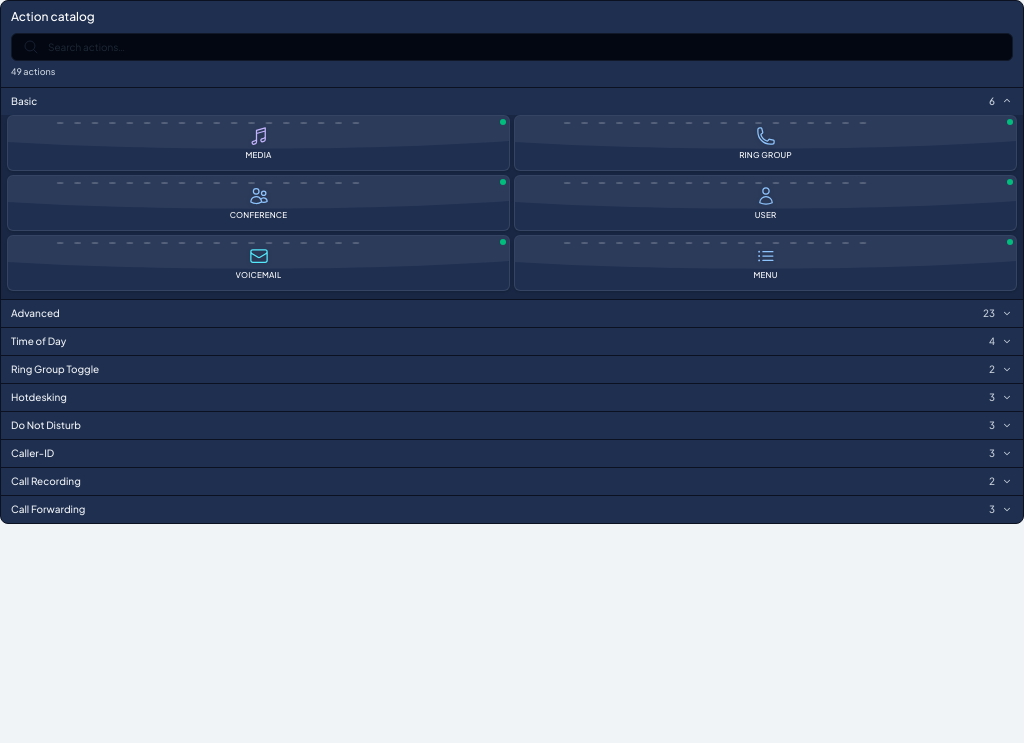
Scenario: CallflowActionPalette › keeps only one category open and avoids a nested vertical scroll container
Click the button "Advanced 23". click: [35, 312]
box: x1=1 y1=300 x2=1023 y2=326
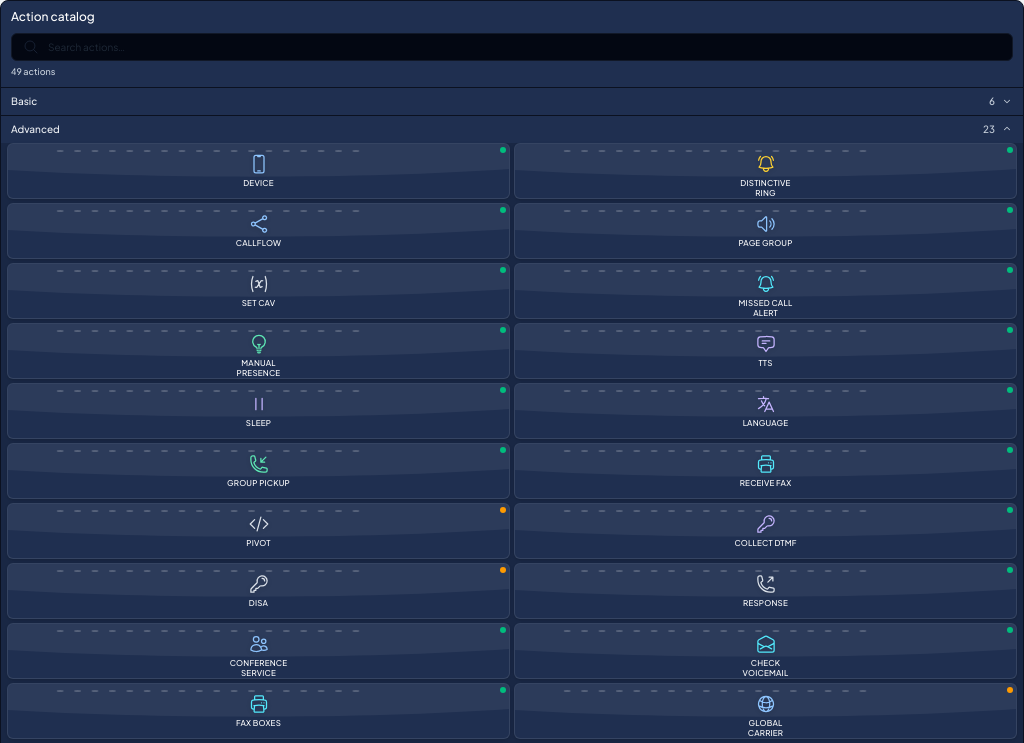
Check: the button "Advanced 23" is expanded, box x1=1 y1=116 x2=1023 y2=142
